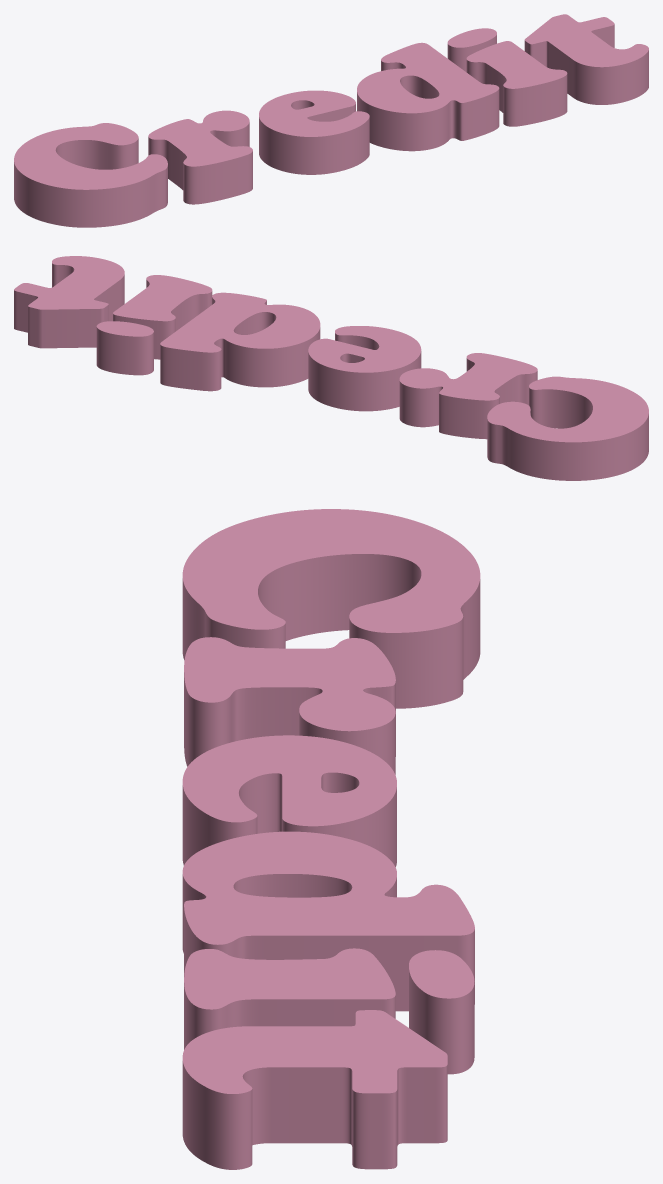
Rendered from credit.glb.
The picture shows the model from 3 angles, top to bottom: view 1: azimuth 30°, elevation 25°; view 2: azimuth 150°, elevation 25°; view 3: azimuth 270°, elevation 25°; orthographic projection. The views are drawn at different scales.
Parts seen in each view (by area): view 1: Text; view 2: Text; view 3: Text.
Part boxes in pixels (left/top/right/bottom): Text: left=14, top=14, right=648, bottom=227; Text: left=14, top=256, right=648, bottom=480; Text: left=182, top=509, right=480, bottom=1169.
Size of the model in its own units: 1.65 by 0.1 by 0.3559.
